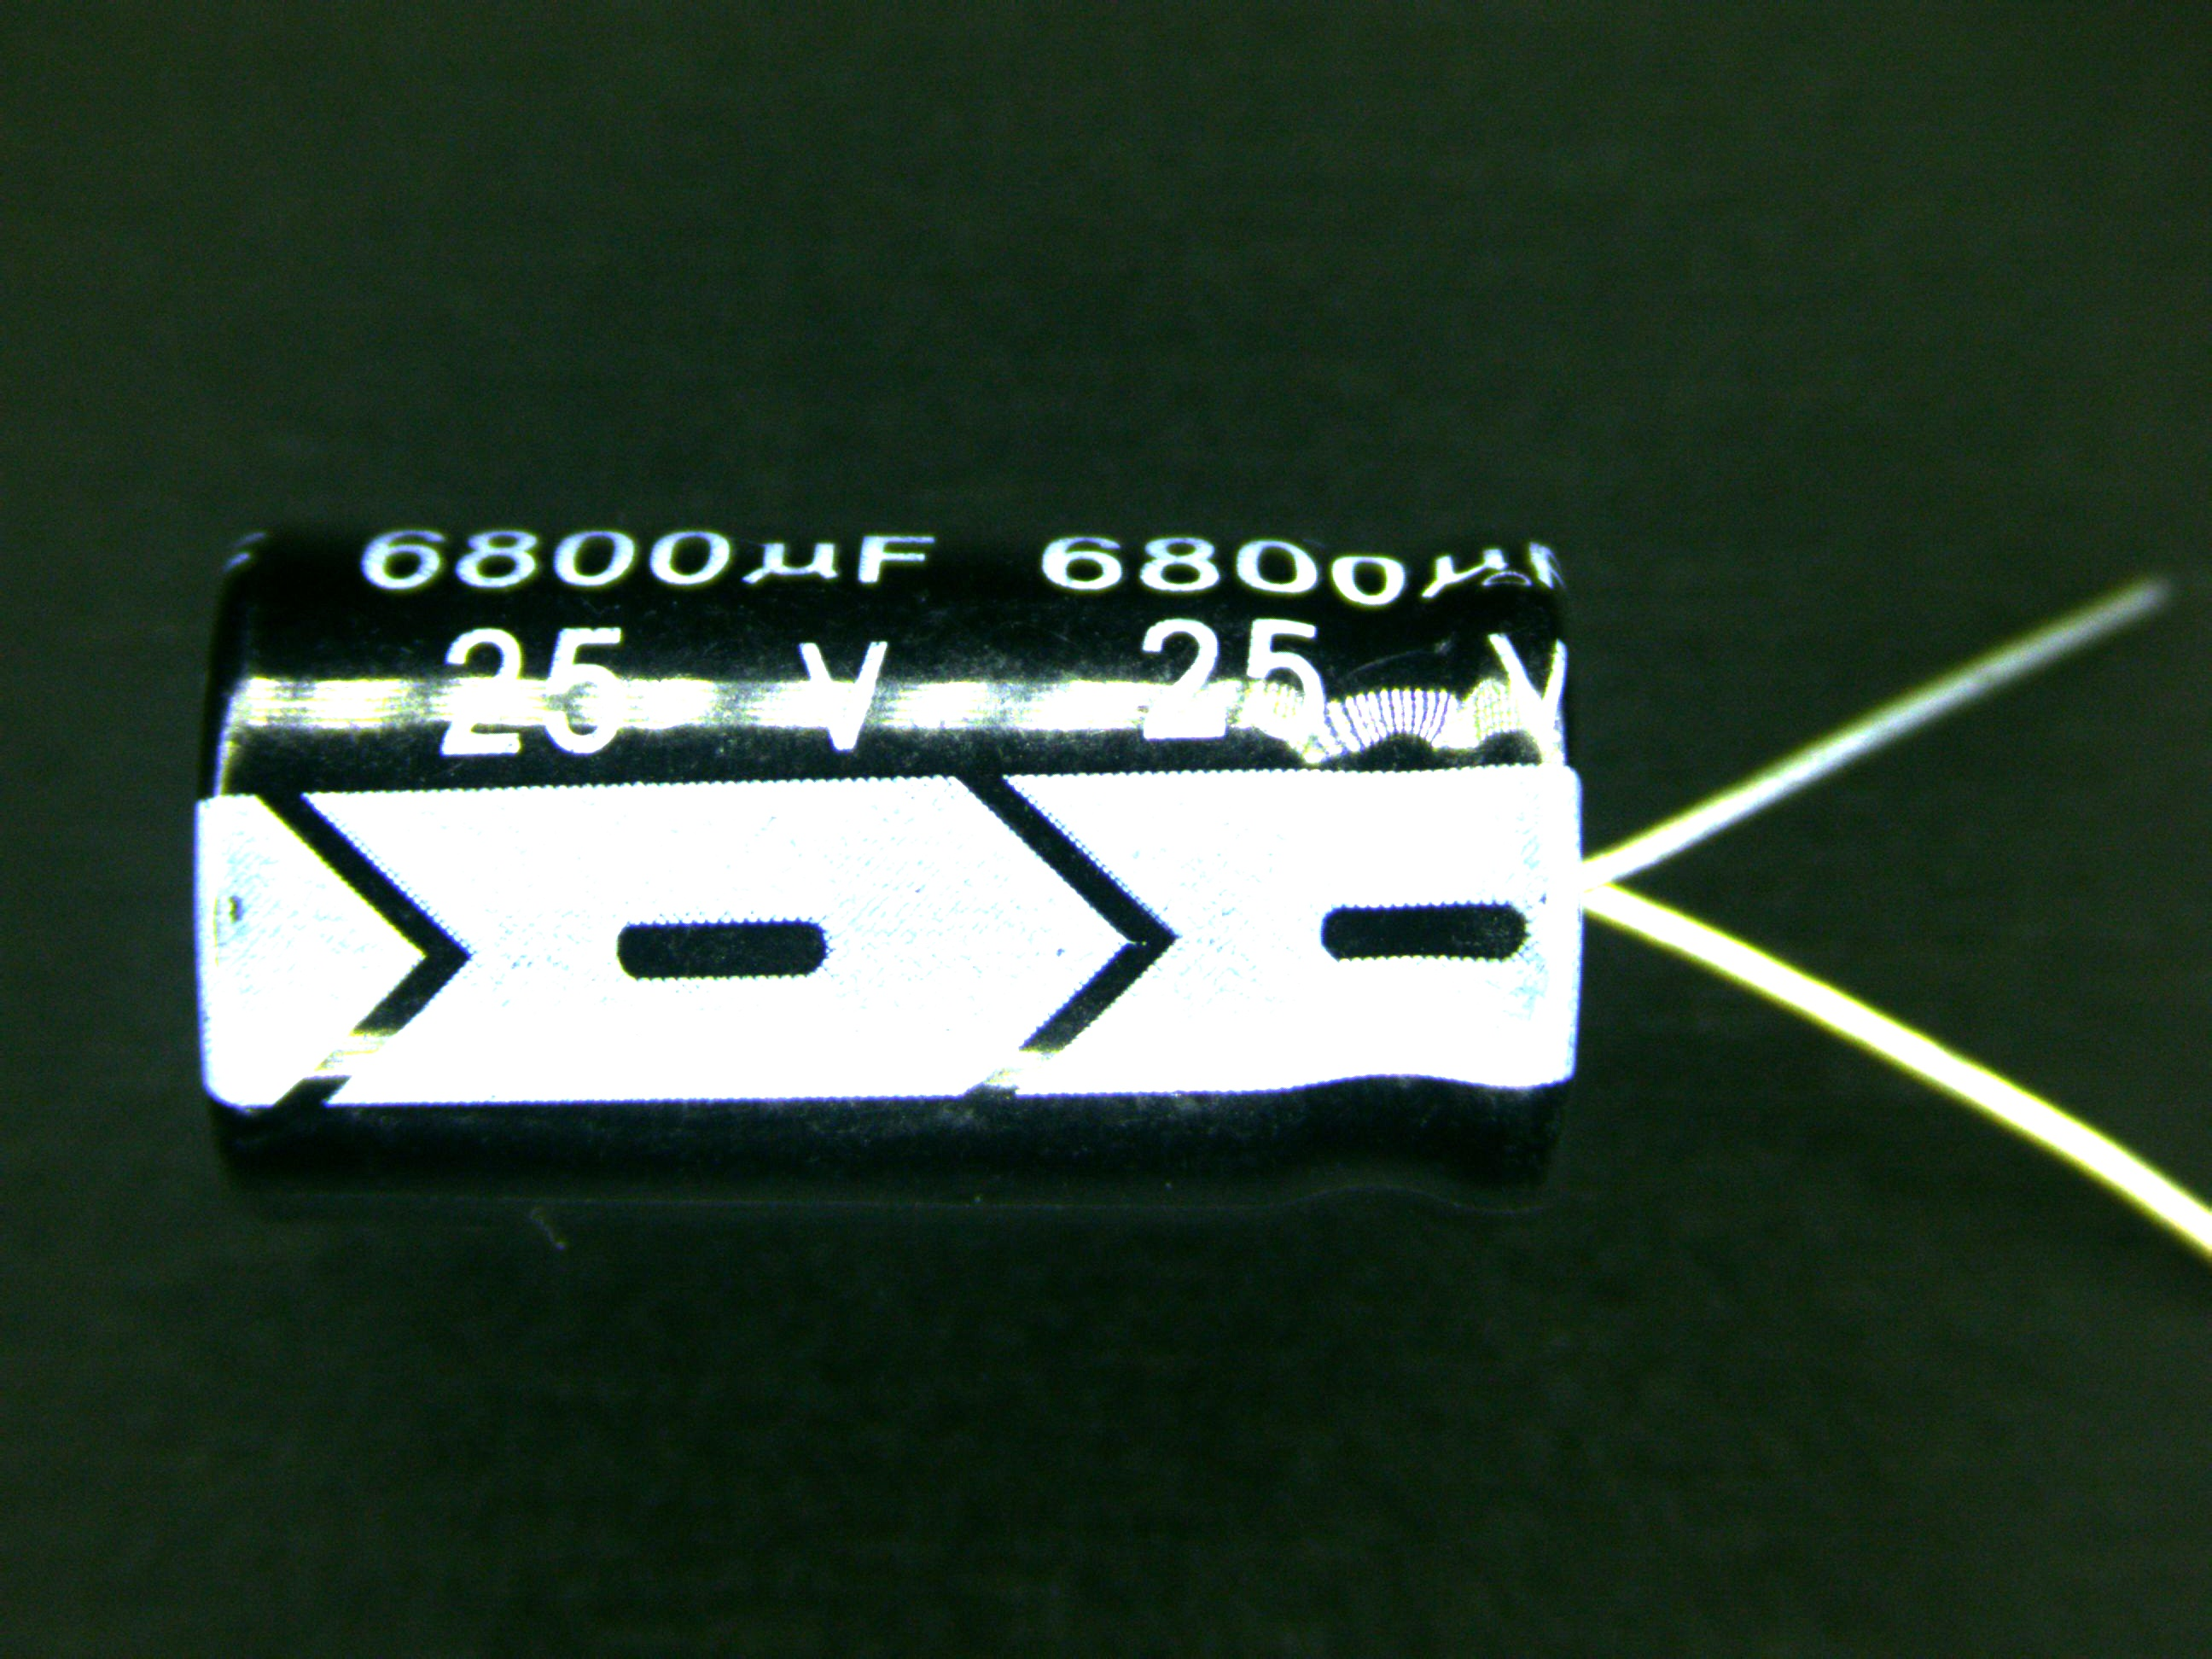c3: (183, 505, 1904, 1239)
